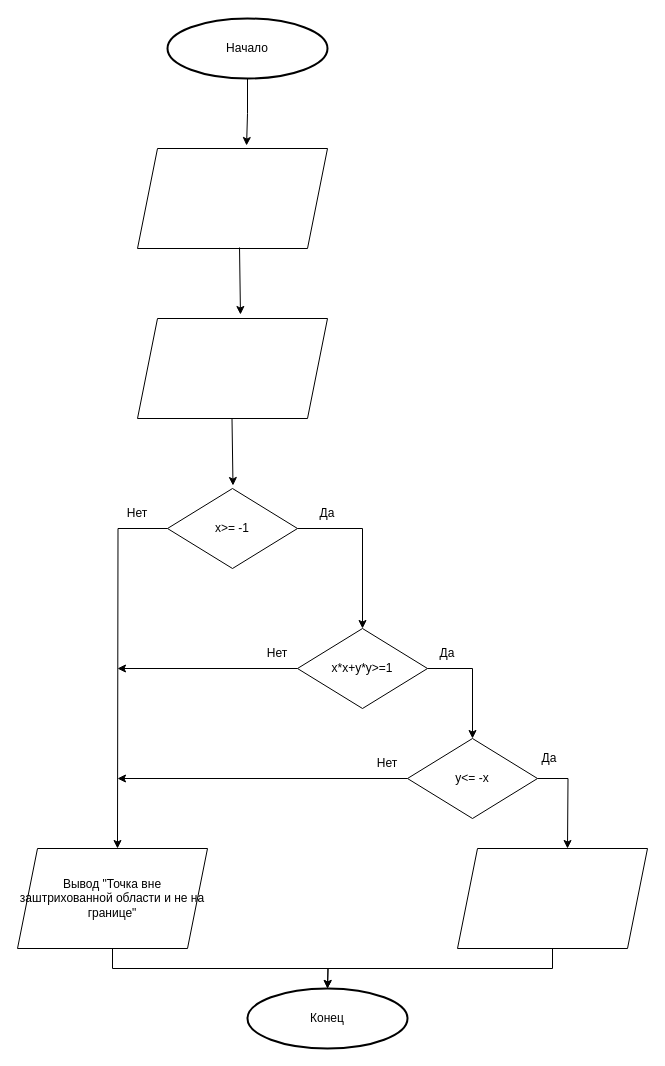
Some shapes in this 665 by 1066 pixel diagram are drawn without their labels. Here are the shapes that lost their labels. From the top down, the centre of each, then its label:
(x=232, y=198): Вывод "Введите координаты точки"
(x=232, y=368): Ввод x,y
(x=552, y=898): Вывод "Точка в заштрихованной области или на границе"
